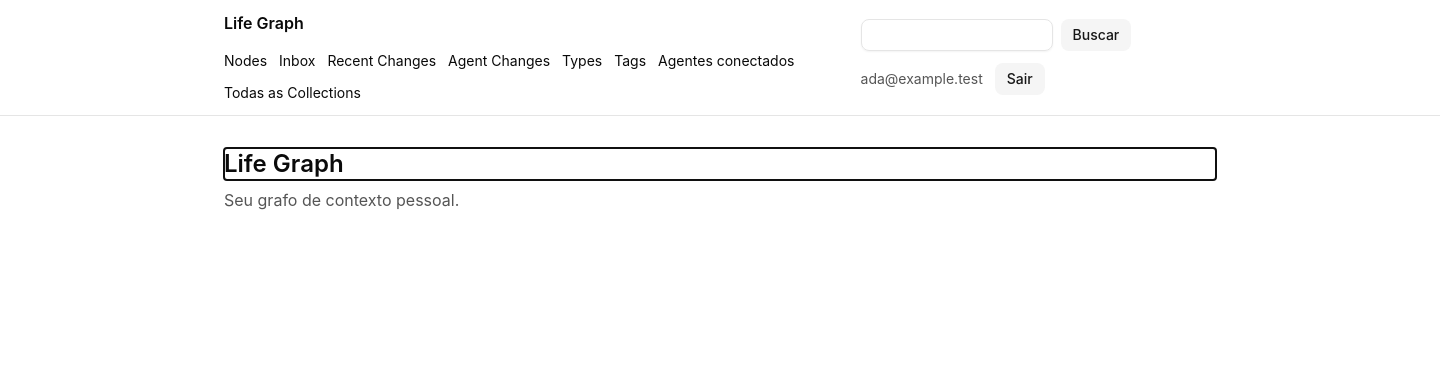
it: session › logs out to the login page and forgets the session
Click the button "Sair" at [1020, 79], box x1=995 y1=63 x2=1045 y2=95
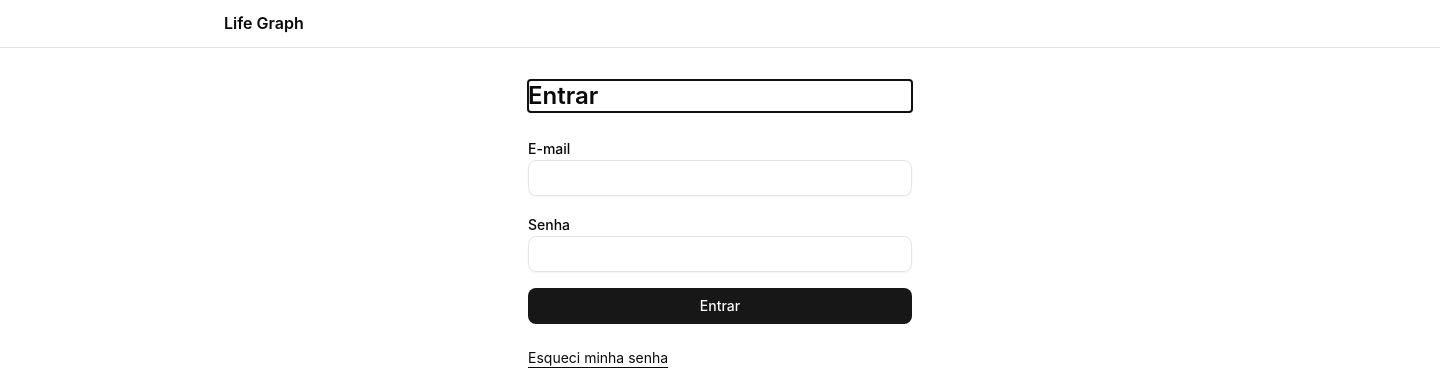
Expected: the heading "Entrar" is shown, x1=528 y1=81 x2=598 y2=110
